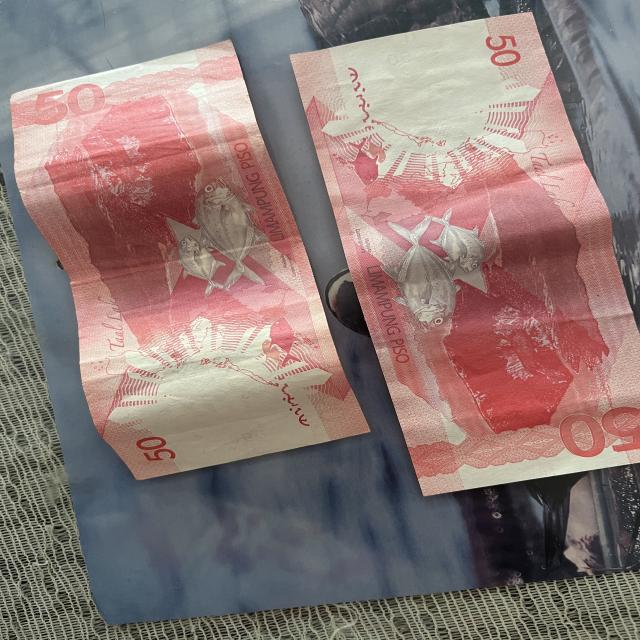50_maliputo: (374, 198, 496, 331), (155, 176, 275, 300)
50_maliputo_watermark: (255, 310, 317, 376), (334, 132, 394, 192)
value_watermark: (375, 43, 426, 78)
watermark: (351, 34, 501, 133)
